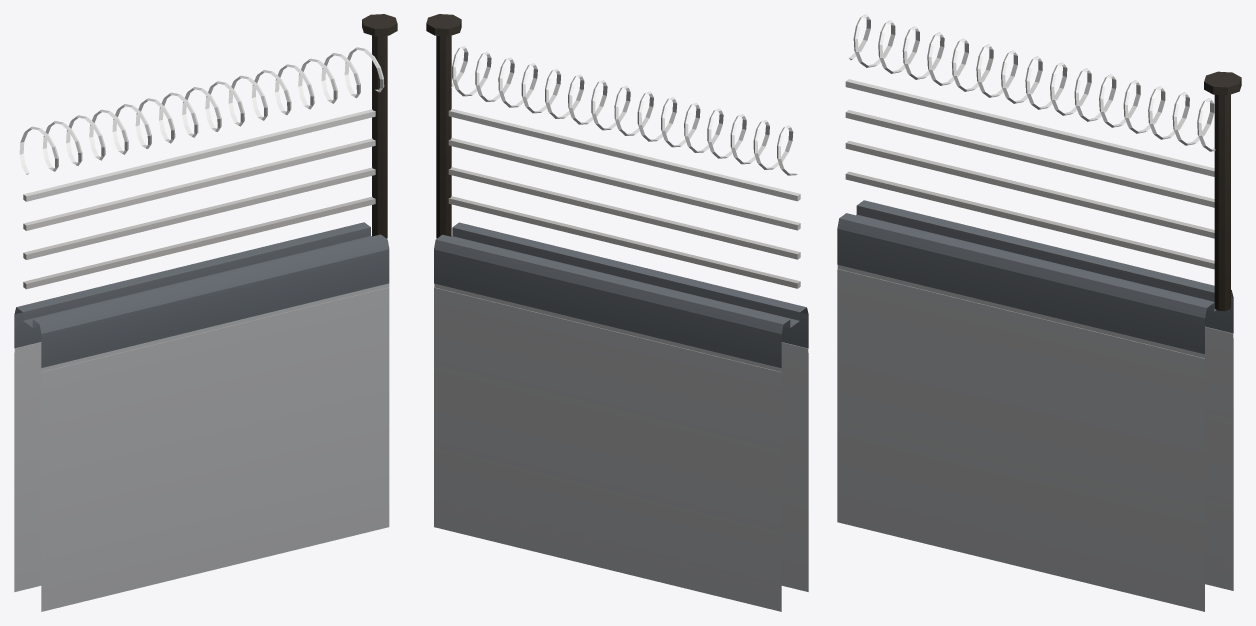
File: muro3.fbx
3 renders of one model, left to right at view 1: azimuth 30°, elevation 25°; view 2: azimuth 150°, elevation 25°; view 3: azimuth 330°, elevation 25°, orthographic. The views are drawn at different scales.
Parts seen in each view (by area): view 1: centro4; view 2: centro4; view 3: centro4.
Boxes of the visible parts, bbox=[...] form: centro4: bbox=[14, 14, 397, 611]; centro4: bbox=[426, 14, 808, 611]; centro4: bbox=[837, 14, 1241, 611].
Size of the model in its own units: 1726 by 2200 by 217.
